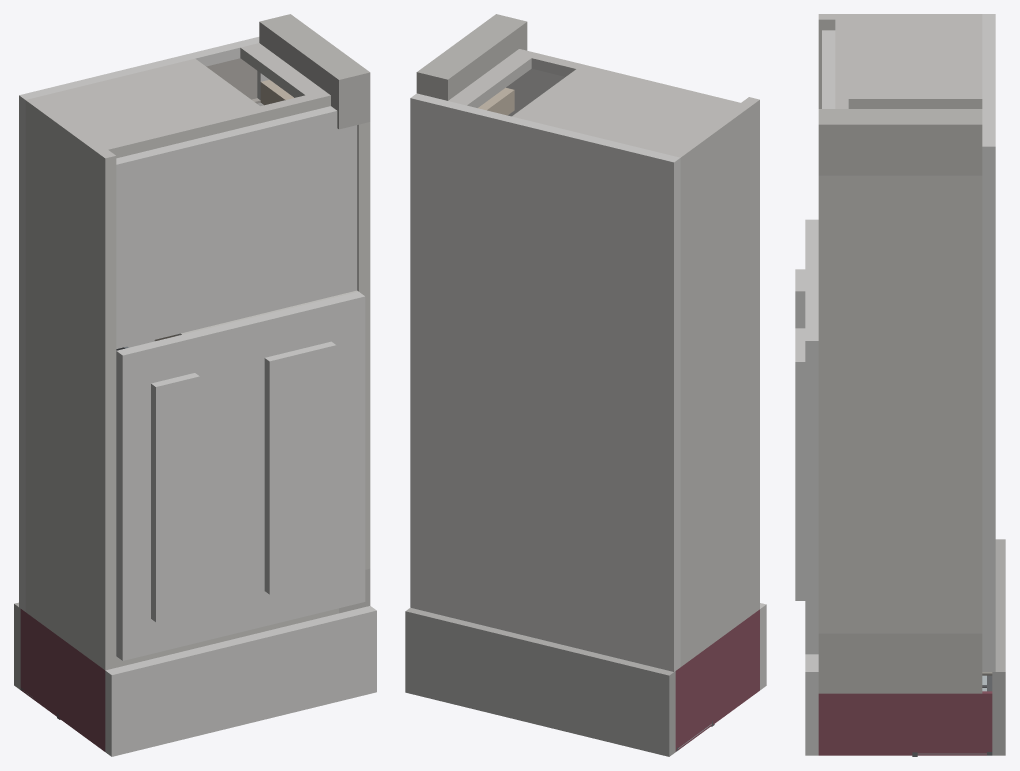
Rendered from soho1415_master.glb.
3 views of the same model, side by side, from view 1: azimuth 30°, elevation 25°; view 2: azimuth 150°, elevation 25°; view 3: azimuth 270°, elevation 25° (orthographic). The views are drawn at different scales.
Parts seen in each view (by area): view 1: CEILING, WALL_EXT_WEST, CEILING_COVE, BALCONY_SOFFIT, WALL_EXT_NORTH, BALCONY_PARTITION_W, COLUMN_NE, FLOOR_SLAB, WALL_EXT_EAST, WALL_EXT_SOUTH, ENTRANCE; view 2: FLOOR_SLAB, WALL_EXT_WEST, BALCONY_SLAB, WALL_EXT_NORTH, BALCONY_PARTITION_W, COLUMN_NE, CEILING, KITCHEN; view 3: WALL_EXT_EAST, WALL_EXT_NORTH, COLUMN_NE, BALCONY_PARTITION_E, COLUMN_SE, FLOOR_SLAB, CEILING, CEILING_COVE, BALCONY_SLAB, WALL_EXT_WEST, BALCONY_SOFFIT.
Part boxes in pixels (bbox=[...]): CEILING: bbox=[116, 106, 365, 660]; WALL_EXT_WEST: bbox=[25, 97, 116, 670]; CEILING_COVE: bbox=[151, 341, 336, 622]; BALCONY_SOFFIT: bbox=[105, 606, 376, 756]; WALL_EXT_NORTH: bbox=[37, 43, 330, 158]; BALCONY_PARTITION_W: bbox=[20, 609, 105, 751]; COLUMN_NE: bbox=[259, 14, 370, 129]; FLOOR_SLAB: bbox=[19, 37, 269, 611]; WALL_EXT_EAST: bbox=[357, 122, 370, 569]; WALL_EXT_SOUTH: bbox=[116, 608, 338, 667]; ENTRANCE: bbox=[206, 58, 260, 103]; FLOOR_SLAB: bbox=[410, 93, 680, 671]; WALL_EXT_WEST: bbox=[670, 97, 759, 666]; BALCONY_SLAB: bbox=[405, 607, 675, 756]; WALL_EXT_NORTH: bbox=[448, 49, 740, 154]; BALCONY_PARTITION_W: bbox=[675, 609, 759, 751]; COLUMN_NE: bbox=[416, 14, 527, 100]; CEILING: bbox=[506, 68, 564, 116]; KITCHEN: bbox=[478, 87, 514, 115]; WALL_EXT_EAST: bbox=[818, 175, 982, 633]; WALL_EXT_NORTH: bbox=[835, 19, 982, 108]; COLUMN_NE: bbox=[818, 109, 982, 175]; BALCONY_PARTITION_E: bbox=[818, 691, 992, 755]; COLUMN_SE: bbox=[818, 633, 982, 693]; FLOOR_SLAB: bbox=[982, 14, 995, 671]; CEILING: bbox=[805, 30, 835, 654]; CEILING_COVE: bbox=[795, 269, 805, 600]; BALCONY_SLAB: bbox=[992, 539, 1005, 755]; WALL_EXT_WEST: bbox=[818, 14, 982, 108]; BALCONY_SOFFIT: bbox=[805, 654, 818, 755].
Bounding box in the file's own units: 4700 × 10442 × 3150.
